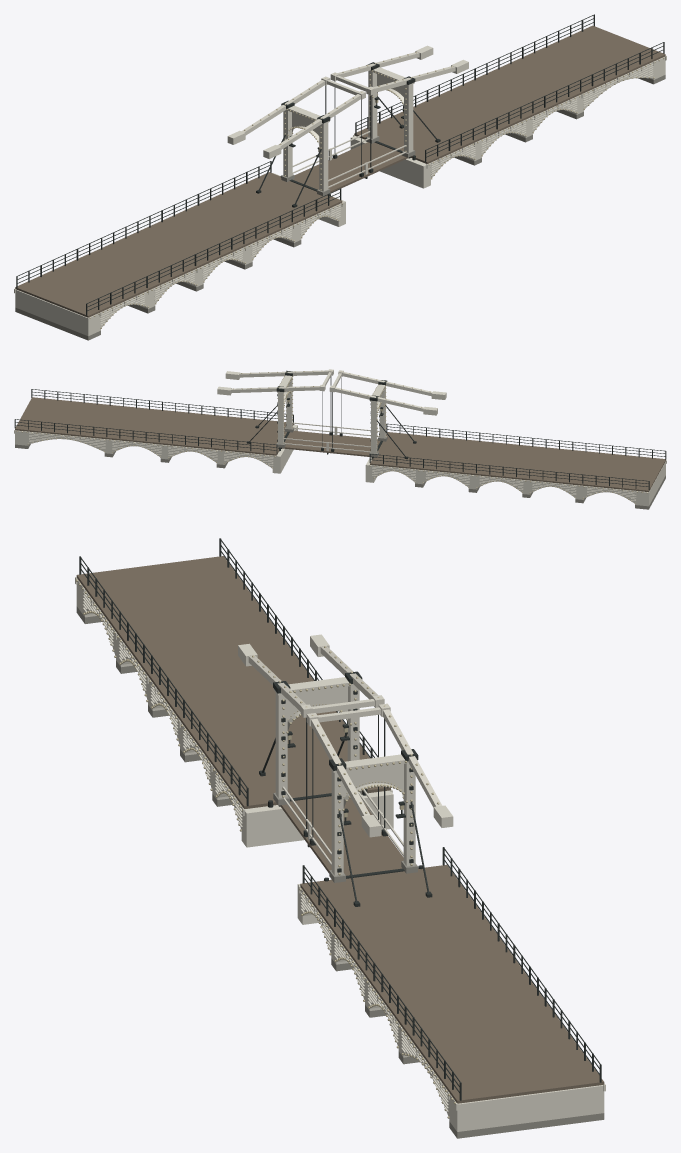
The model's file is magere-brug-near.glb.
3 views of the same model, one above another, from view 1: azimuth 30°, elevation 25°; view 2: azimuth 150°, elevation 25°; view 3: azimuth 270°, elevation 25° (orthographic). The views are drawn at different scales.
Visible parts, largest first — view 1: magere-brug-0-deck, magere-brug-0-timber, magere-brug-0-iron, magere-brug-0-stone, magere-brug-0-lamp; view 2: magere-brug-0-deck, magere-brug-0-timber, magere-brug-0-iron, magere-brug-0-lamp, magere-brug-0-stone; view 3: magere-brug-0-deck, magere-brug-0-timber, magere-brug-0-iron, magere-brug-0-stone, magere-brug-0-lamp.
Boxes of the visible parts, <box> form: magere-brug-0-deck: <box>15,25,665,317</box>; magere-brug-0-timber: <box>14,45,666,336</box>; magere-brug-0-iron: <box>16,14,664,315</box>; magere-brug-0-stone: <box>15,75,665,340</box>; magere-brug-0-lamp: <box>89,52,664,328</box>; magere-brug-0-deck: <box>15,397,665,491</box>; magere-brug-0-timber: <box>14,369,666,506</box>; magere-brug-0-iron: <box>14,370,666,490</box>; magere-brug-0-lamp: <box>17,370,647,503</box>; magere-brug-0-stone: <box>15,427,665,509</box>; magere-brug-0-deck: <box>76,556,604,1103</box>; magere-brug-0-timber: <box>75,577,605,1131</box>; magere-brug-0-iron: <box>79,538,601,1100</box>; magere-brug-0-stone: <box>76,606,604,1138</box>; magere-brug-0-lamp: <box>76,579,455,1118</box>.
Bounding box in the file's own units: 80.38 × 11.49 × 32.99.
